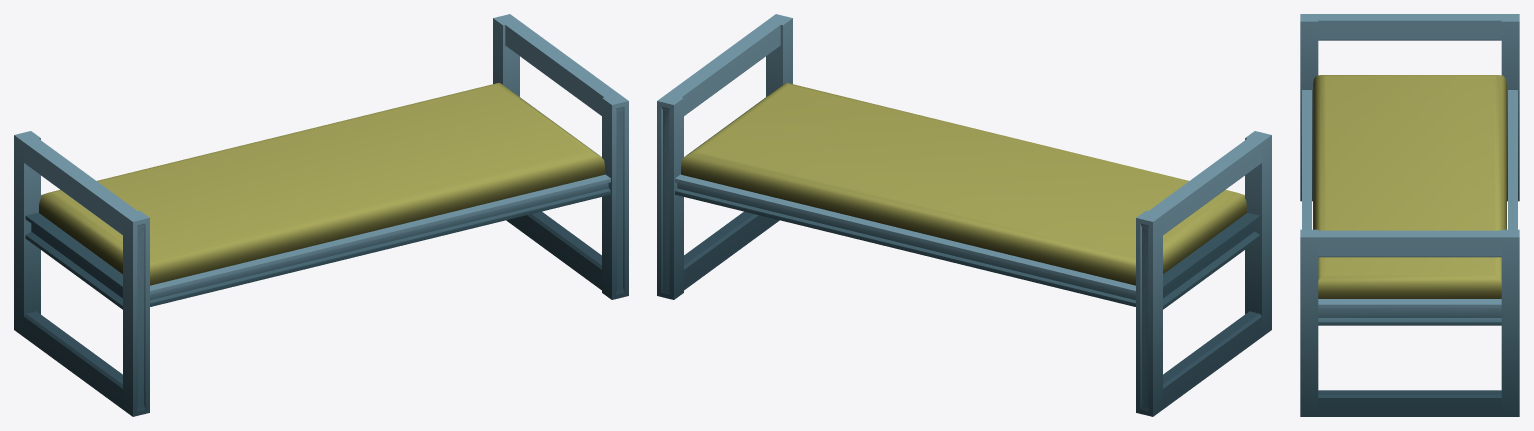
The model's file is SM_Bed_01 1.fbx.
3 views of the same model, side by side, from view 1: azimuth 30°, elevation 25°; view 2: azimuth 150°, elevation 25°; view 3: azimuth 270°, elevation 25° (orthographic). The views are drawn at different scales.
Visible parts, largest first — view 1: SM_Bed_01; view 2: SM_Bed_01; view 3: SM_Bed_01.
Boxes of the visible parts, box(x1,y1,x2,y2) form: SM_Bed_01: box(14, 14, 628, 416); SM_Bed_01: box(657, 14, 1271, 416); SM_Bed_01: box(1300, 14, 1519, 416).
Size of the model in its own units: 2.26 by 0.9373 by 0.8483.
